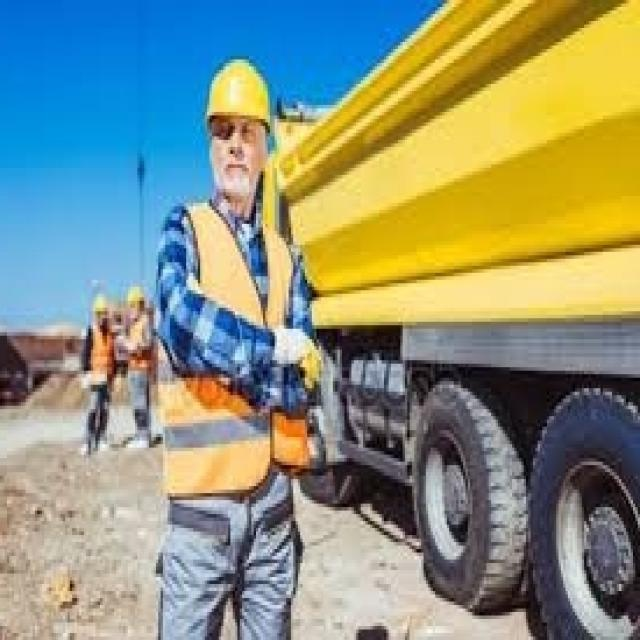Con_Chaleco: (161, 211, 310, 475)
